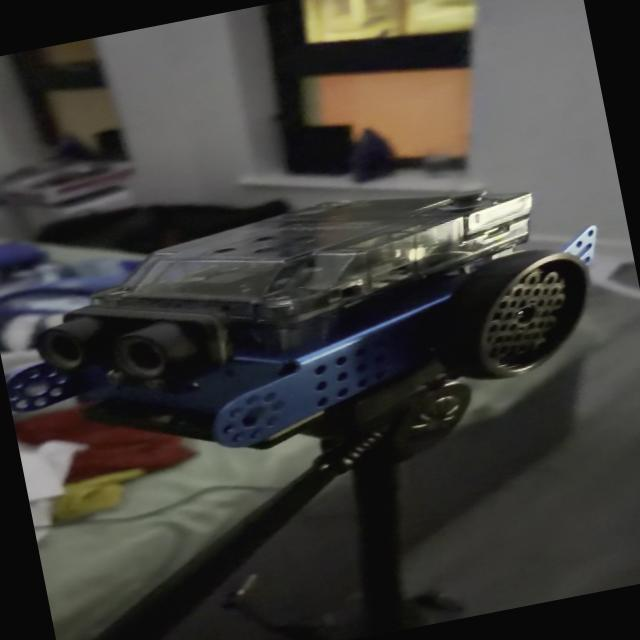mbot-detection: (0, 146, 635, 491)
